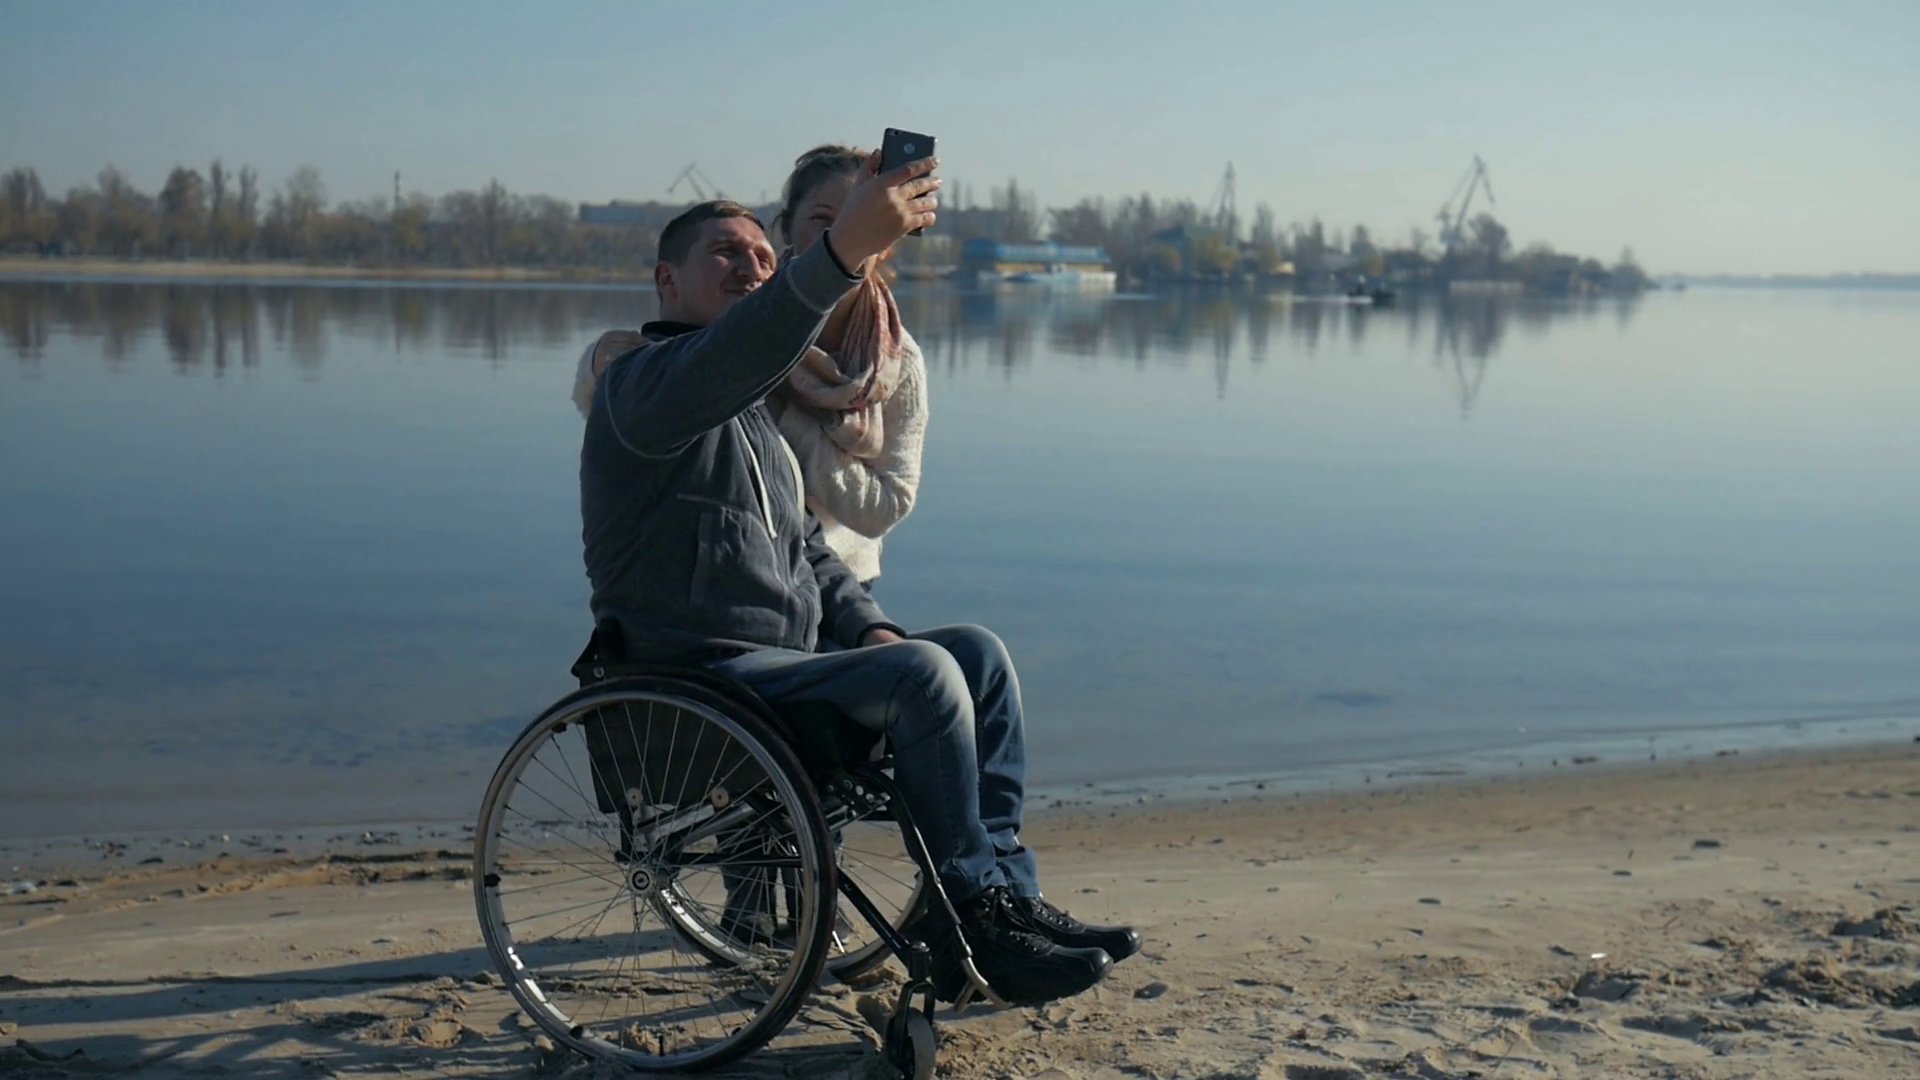wheelchair: (477, 651, 998, 1062)
